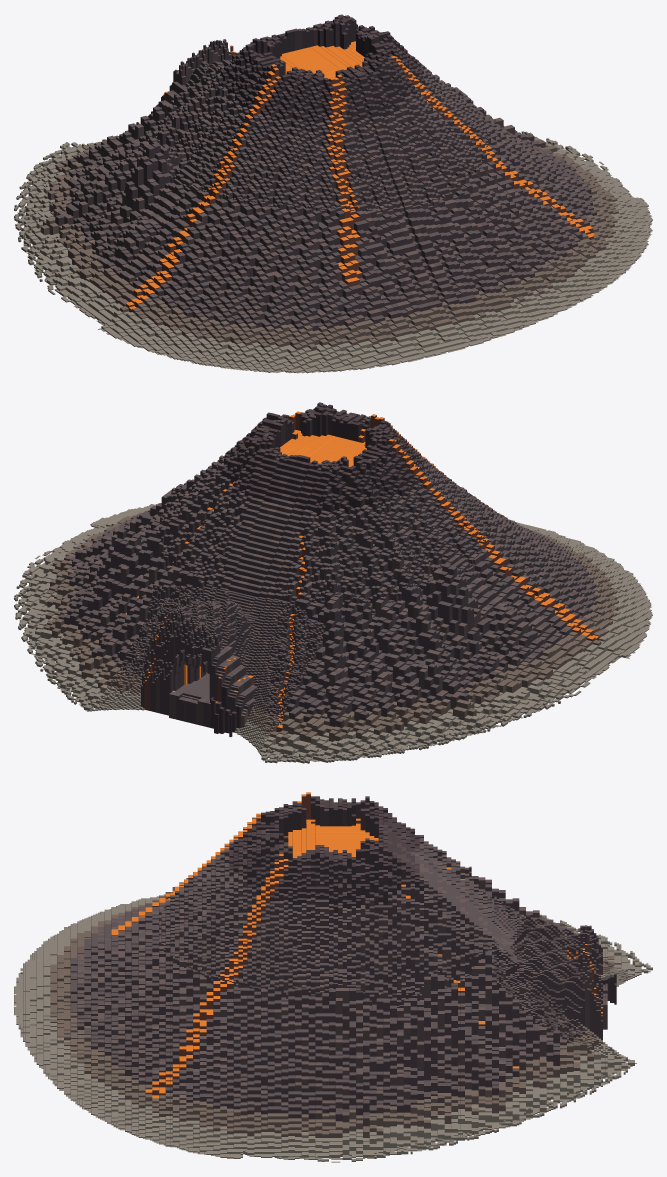
The model's file is VolcanBloques.fbx.
3 renders of one model, top to bottom at view 1: azimuth 30°, elevation 25°; view 2: azimuth 150°, elevation 25°; view 3: azimuth 270°, elevation 25°, orthographic. The views are drawn at different scales.
Parts seen in each view (by area): view 1: Volcan_6_4, Volcan_6_3, VolcanLava, Volcan_5_3, Volcan_7_4, Volcan_6_5, Volcan_7_3, Volcan_6_2, Volcan_7_2, Volcan_7_5, Volcan_4_2, Volcan_5_2 (+39 smaller); view 2: Volcan_3_3, Volcan_1_4, Volcan_3_2, Volcan_3_4, Volcan_2_3, Volcan_3_5, Volcan_4_3, Volcan_2_2, Volcan_1_3, Volcan_2_4, Volcan_4_1, Volcan_1_5 (+42 smaller); view 3: Volcan_4_6, Volcan_4_7, Volcan_5_6, Volcan_1_5, Volcan_5_7, Volcan_3_7, Volcan_3_6, VolcanLava, Volcan_2_6, Volcan_5_8, Volcan_4_8, Volcan_6_6 (+36 smaller).
Part boxes in pixels (bbox=[...]): Volcan_6_4: bbox=[315, 97, 410, 209]; Volcan_6_3: bbox=[254, 126, 350, 249]; VolcanLava: bbox=[126, 41, 594, 309]; Volcan_5_3: bbox=[219, 65, 315, 186]; Volcan_7_4: bbox=[350, 193, 446, 291]; Volcan_6_5: bbox=[377, 94, 471, 197]; Volcan_7_3: bbox=[290, 210, 385, 316]; Volcan_6_2: bbox=[193, 188, 288, 298]; Volcan_7_2: bbox=[228, 250, 324, 348]; Volcan_7_5: bbox=[411, 191, 506, 279]; Volcan_4_2: bbox=[123, 131, 215, 222]; Volcan_5_2: bbox=[158, 146, 254, 253]; Volcan_3_3: bbox=[311, 489, 404, 629]; Volcan_1_4: bbox=[178, 599, 272, 733]; Volcan_3_2: bbox=[370, 554, 465, 666]; Volcan_3_4: bbox=[248, 463, 343, 569]; Volcan_2_3: bbox=[273, 566, 368, 678]; Volcan_3_5: bbox=[187, 454, 282, 552]; Volcan_4_3: bbox=[343, 443, 439, 561]; Volcan_2_2: bbox=[336, 629, 427, 723]; Volcan_1_3: bbox=[238, 647, 333, 741]; Volcan_2_4: bbox=[213, 552, 306, 649]; Volcan_4_1: bbox=[466, 603, 560, 693]; Volcan_1_5: bbox=[117, 603, 211, 715]; Volcan_4_6: bbox=[315, 878, 387, 998]; Volcan_4_7: bbox=[315, 973, 387, 1081]; Volcan_5_6: bbox=[243, 878, 315, 996]; Volcan_1_5: bbox=[533, 926, 605, 1045]; Volcan_5_7: bbox=[243, 979, 315, 1077]; Volcan_3_7: bbox=[388, 998, 460, 1100]; Volcan_3_6: bbox=[388, 897, 460, 1017]; VolcanLava: bbox=[111, 792, 602, 1098]; Volcan_2_6: bbox=[460, 951, 532, 1068]; Volcan_5_8: bbox=[243, 1067, 315, 1141]; Volcan_4_8: bbox=[315, 1067, 387, 1143]; Volcan_6_6: bbox=[170, 920, 242, 1036].
Size of the model in its own units: 1156 by 518 by 1128.
2 materials, 2 textured.
